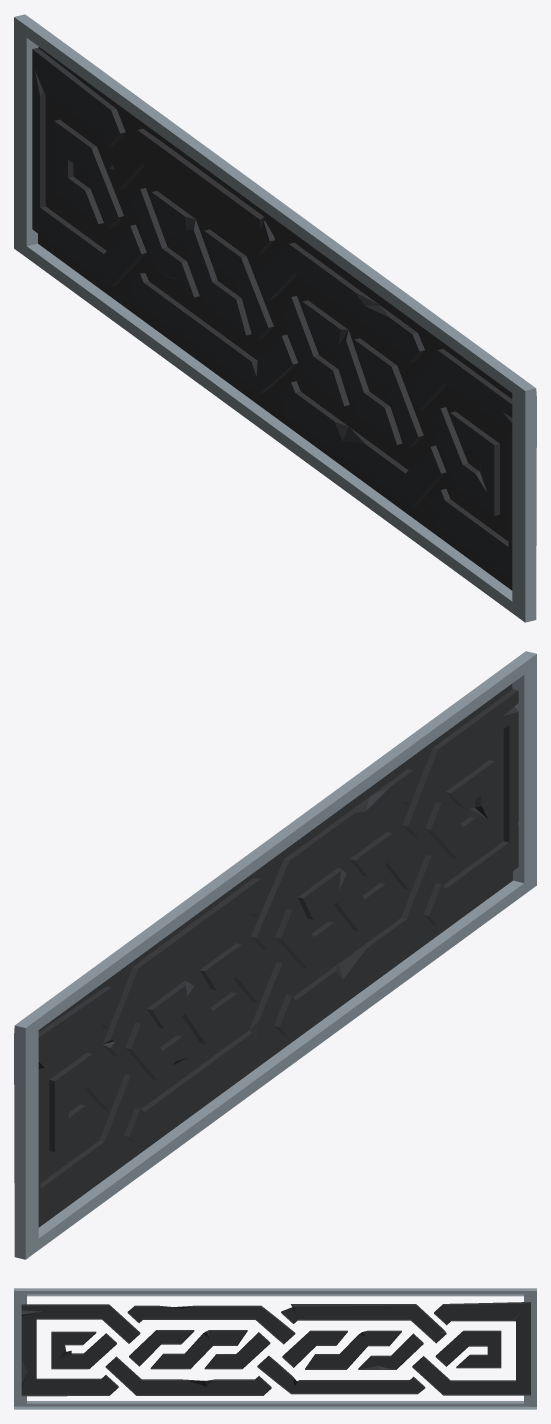
The model's file is Trim_Medium_Tall.fbx.
The picture shows the model from 3 angles, top to bottom: view 1: azimuth 30°, elevation 25°; view 2: azimuth 150°, elevation 25°; view 3: azimuth 270°, elevation 25°; orthographic projection. The views are drawn at different scales.
Parts seen in each view (by area): view 1: Trim_Medium_Tall; view 2: Trim_Medium_Tall; view 3: Trim_Medium_Tall.
Part boxes in pixels (<box>): Trim_Medium_Tall: <box>14,14,536,622</box>; Trim_Medium_Tall: <box>14,651,536,1259</box>; Trim_Medium_Tall: <box>14,1288,536,1409</box>.
Bounding box in the file's own units: 0.1435 × 2 × 8.
